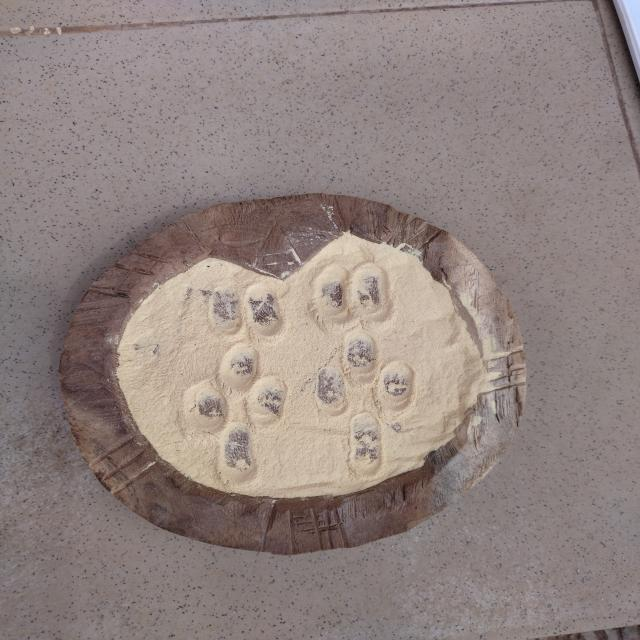double: (308, 262, 398, 332), (182, 378, 292, 434), (318, 360, 421, 418), (201, 282, 291, 342)
single: (334, 328, 386, 388), (216, 424, 264, 488), (344, 410, 386, 480), (218, 338, 262, 395)
